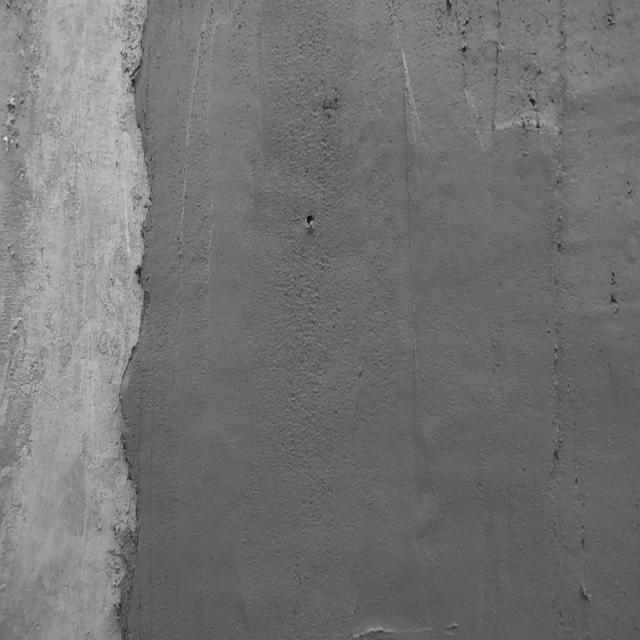trowels marks: (552, 5, 570, 400)
